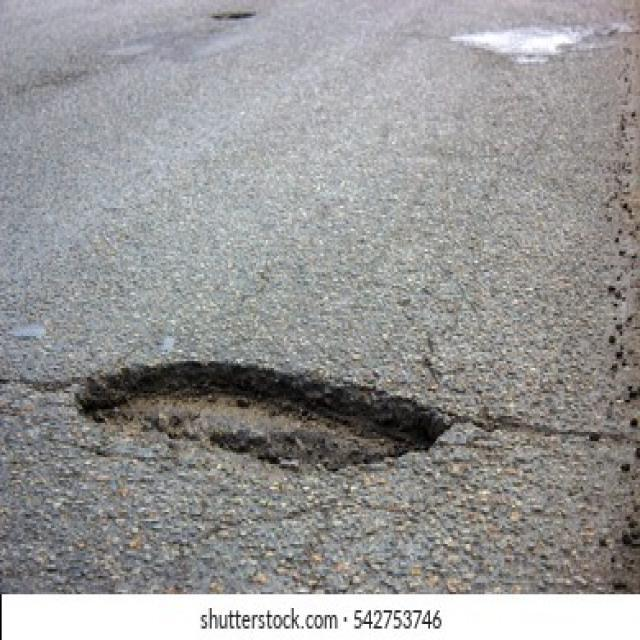Pothole: (74, 358, 452, 476), (212, 14, 254, 20)
